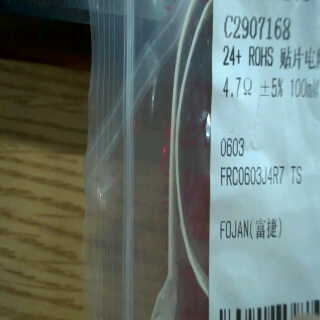4.7R: (216, 72, 258, 103)
